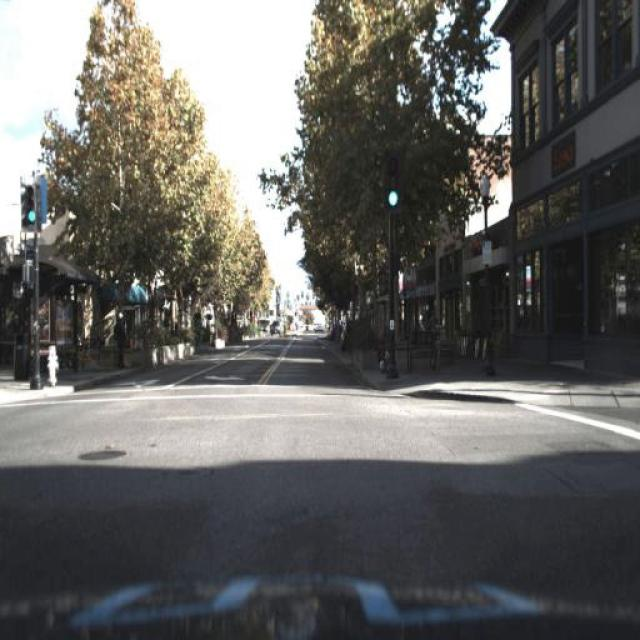semaforo: (20, 177, 40, 232), (384, 151, 402, 210)
